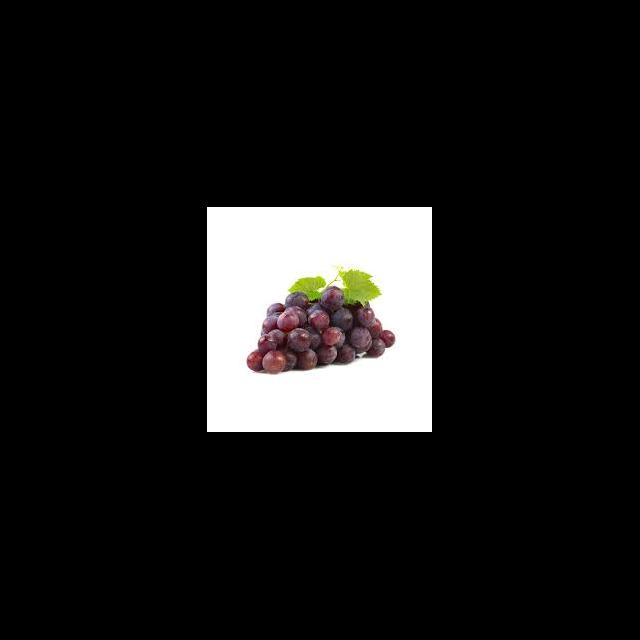grape: (247, 286, 396, 374)
